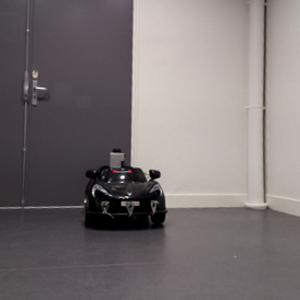big: (82, 164, 170, 231)
